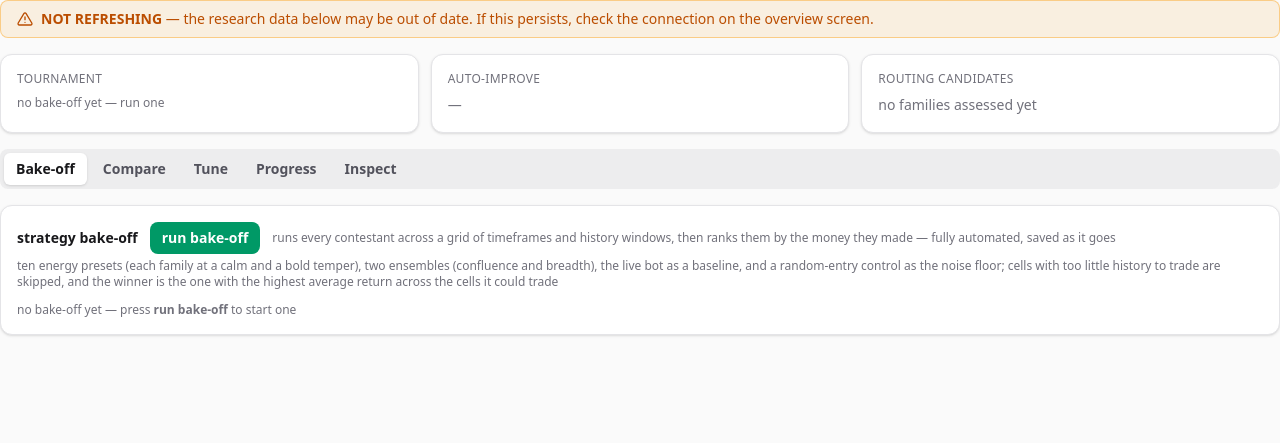
ResearchScreen › opens on the Bake-off tab and carries the evaluation form under Inspect
Expected: the text "not refreshing" is shown, [41,9,162,28]
Expected: the button "run bake-off" is shown, [150,222,260,254]
Note: Inspect is the drill-in destination that carries the custom-evaluation form.
What coordinates should you click on to do the following:
click the button "Inspect"
I would click on:
 (371, 169)
Its box is [333,153,409,185].
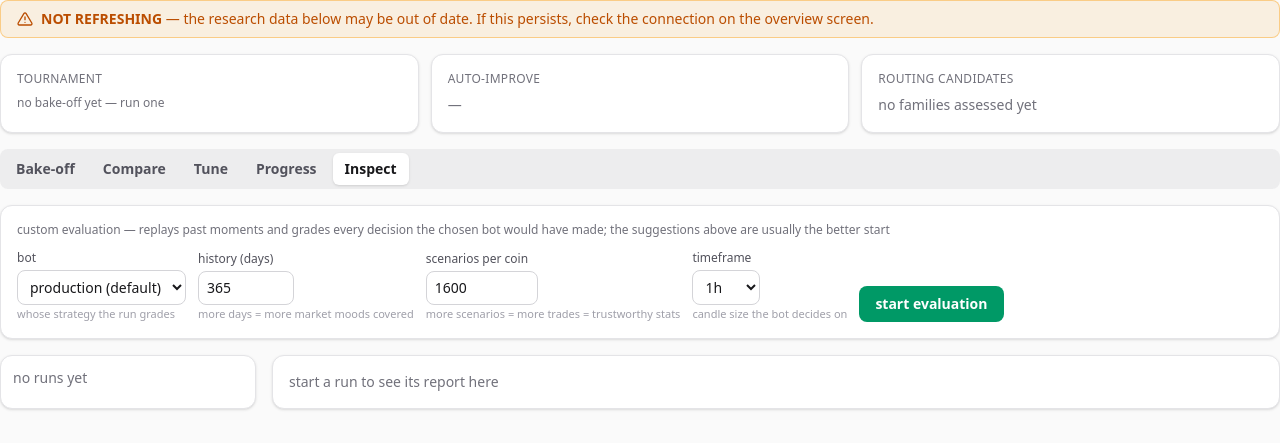
Expected: the button "start evaluation" is shown, [859,286,1004,322]
Note: Switching to Compare hides the evaluation form again.
What coordinates should you click on to do the following:
click the button "Compare"
I would click on:
 (134, 169)
Its box is [91,153,178,185].
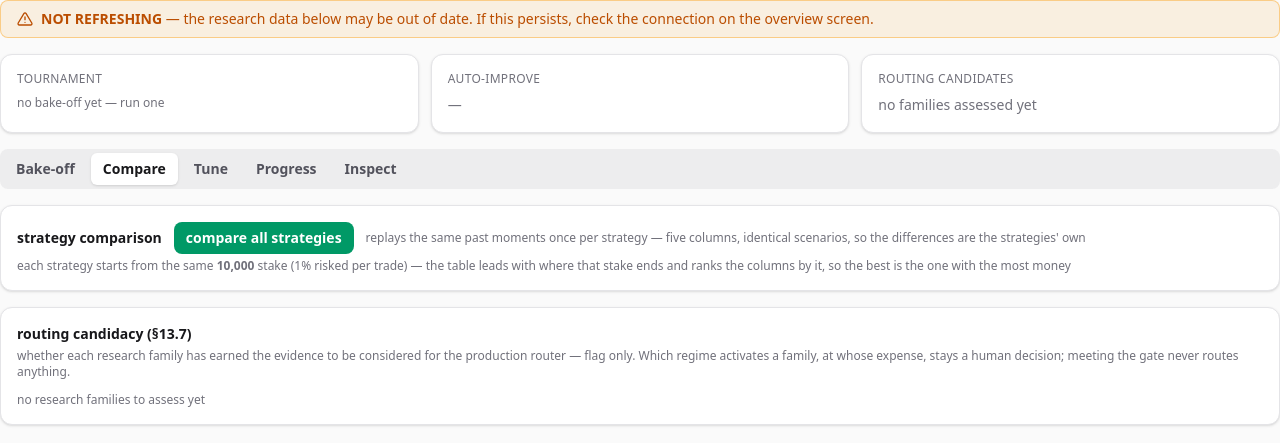
Expected: the button "start evaluation" is gone
